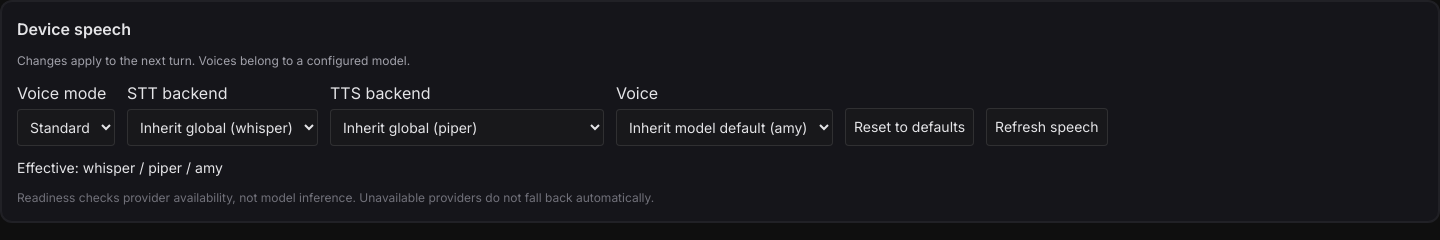
Scenario: refreshes inheritors and scopes voice controls after a global model change
Expected: the text "Effective: whisper / piper / amy" is shown, [17, 159, 223, 176]
Click the button "Refresh speech": coordinates (1047, 127) [986, 108, 1108, 146]
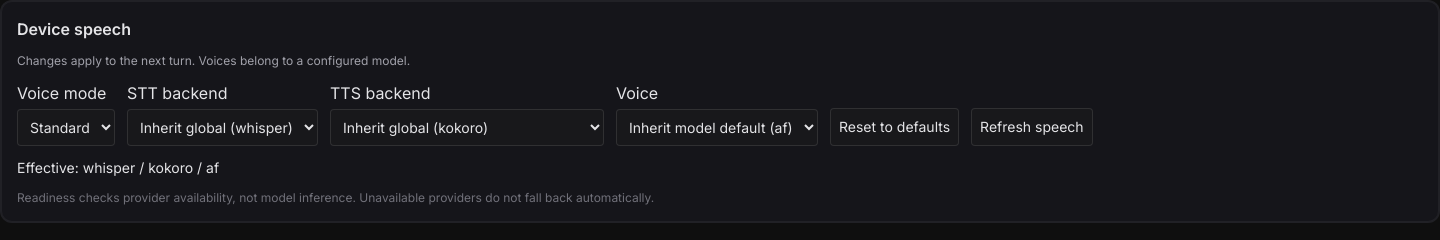
Expected: the text "Effective: whisper / kokoro / af" is shown, [17, 159, 219, 176]
Expected: the text "amy" is gone
